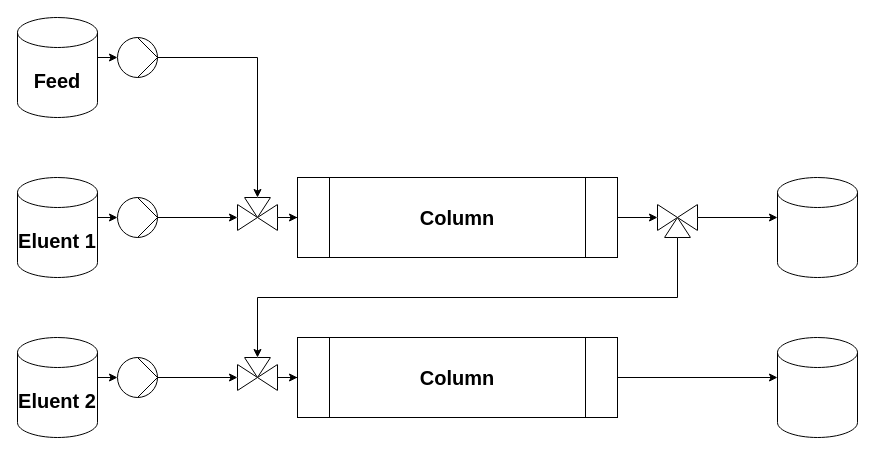
Some shapes in this 875 by 455 pixel diagram are drawn without their labels. The box of each missing label's shape, as (x1, y1, x2, y2) in pixels:
Outlet 1: (776, 176, 858, 278)
Outlet 2: (776, 336, 858, 438)
